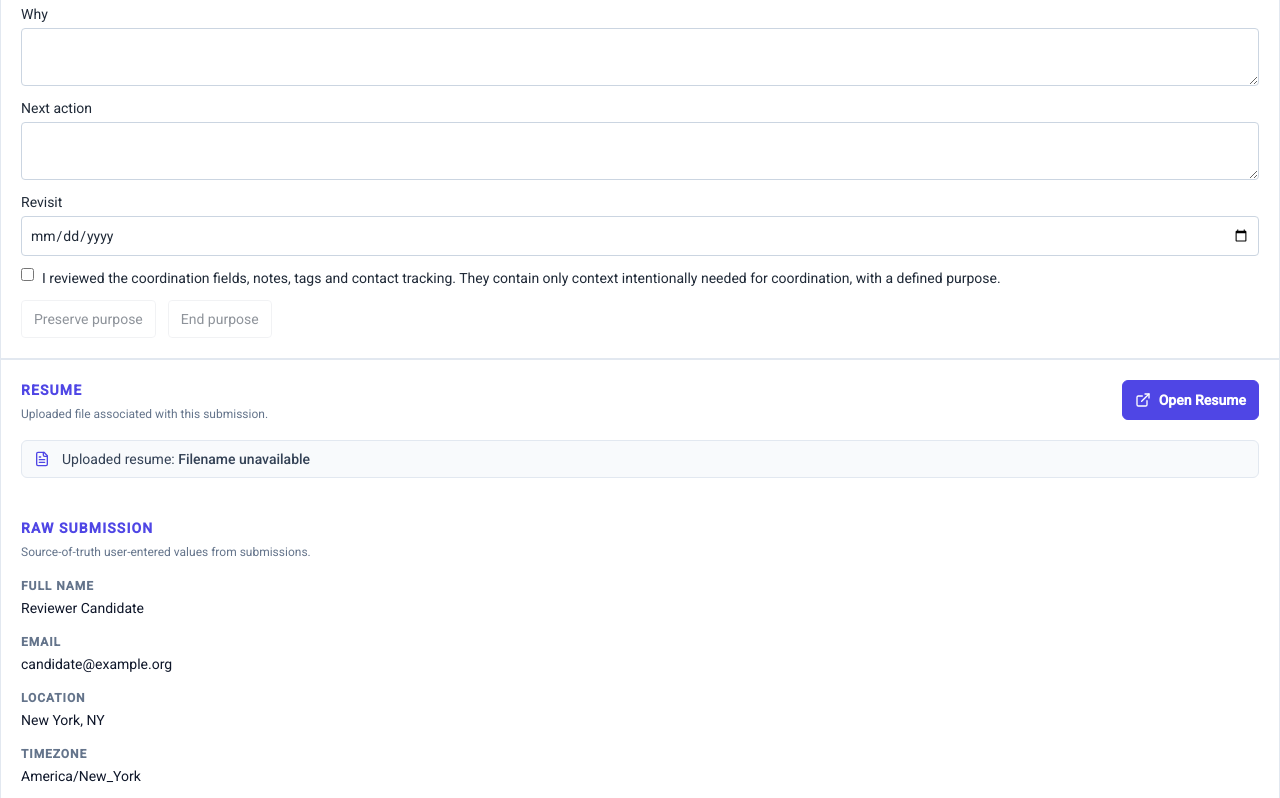
it: InboxDetailPanel resume access › uses a fallback download filename when an uploaded resume filename is blank
(page scrolled)
Click the button "Open Resume" at [1190, 400], box x1=1122 y1=380 x2=1259 y2=420
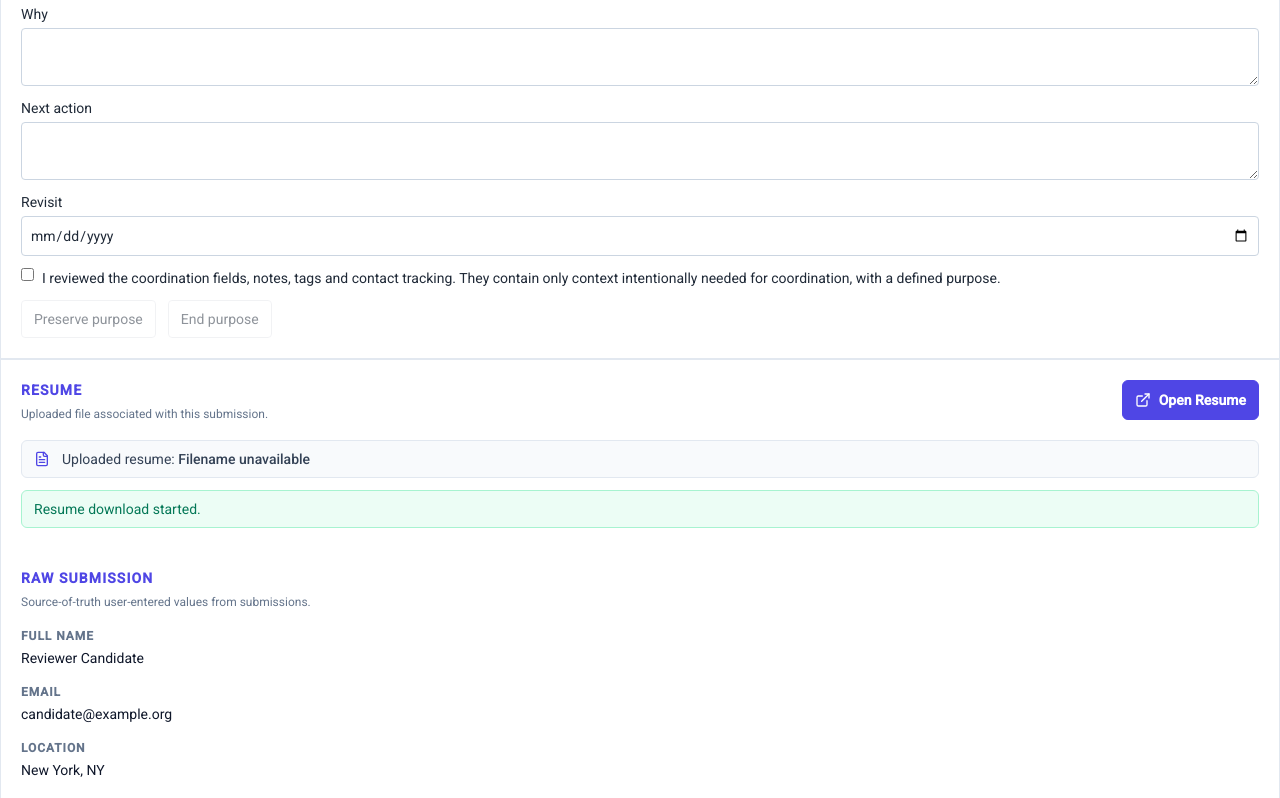
Now the text "Resume download started." is shown, box x1=21 y1=490 x2=1259 y2=528
